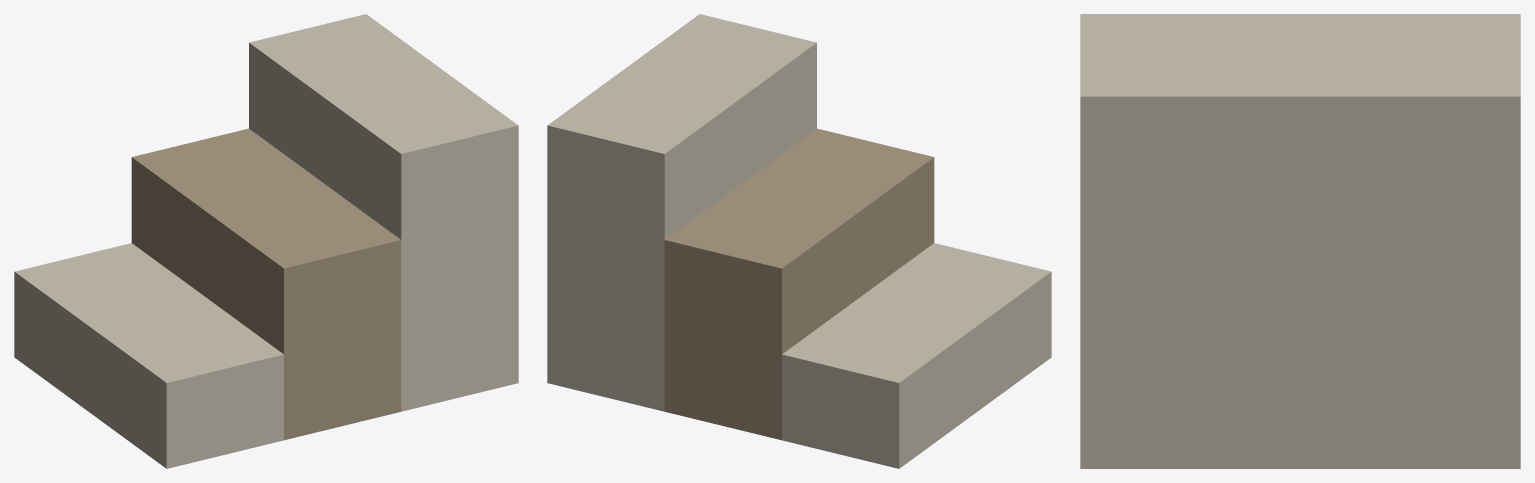
The model's file is Mounting__Block.fbx.
3 renders of one model, left to right at view 1: azimuth 30°, elevation 25°; view 2: azimuth 150°, elevation 25°; view 3: azimuth 270°, elevation 25°, orthographic. The views are drawn at different scales.
Visible parts, largest first — view 1: Mounting__Block; view 2: Mounting__Block; view 3: Mounting__Block.
Part boxes in pixels (x1,y1,x2,y2): Mounting__Block: (14, 14, 518, 468); Mounting__Block: (547, 14, 1051, 468); Mounting__Block: (1080, 14, 1520, 468).
Size of the model in its own units: 120 by 84 by 90.
1 material, 1 textured.
